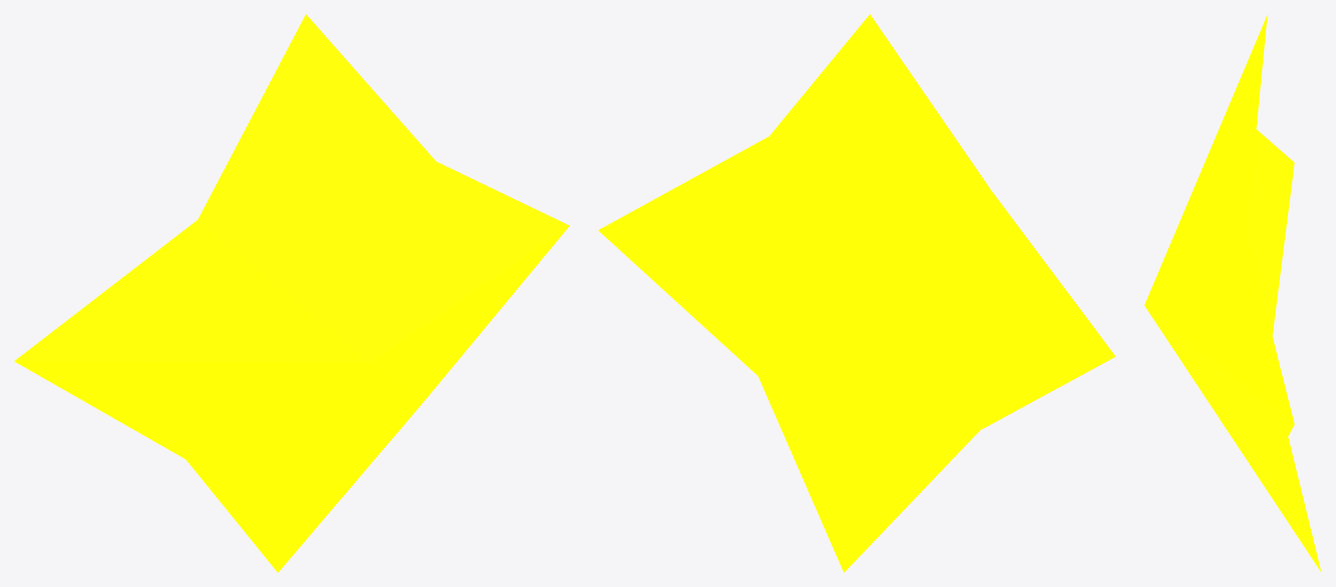
File: four_pointed_star.glb
3 renders of one model, left to right at view 1: azimuth 30°, elevation 25°; view 2: azimuth 150°, elevation 25°; view 3: azimuth 270°, elevation 25°, orthographic. The views are drawn at different scales.
Visible parts, largest first — view 1: 円柱; view 2: 円柱; view 3: 円柱.
Part boxes in pixels (x1,y1,x2,y2): 円柱: [14, 14, 569, 572]; 円柱: [598, 14, 1115, 572]; 円柱: [1144, 14, 1321, 572].
Bounding box in the file's own units: 0.5 × 0.4981 × 0.1432.
